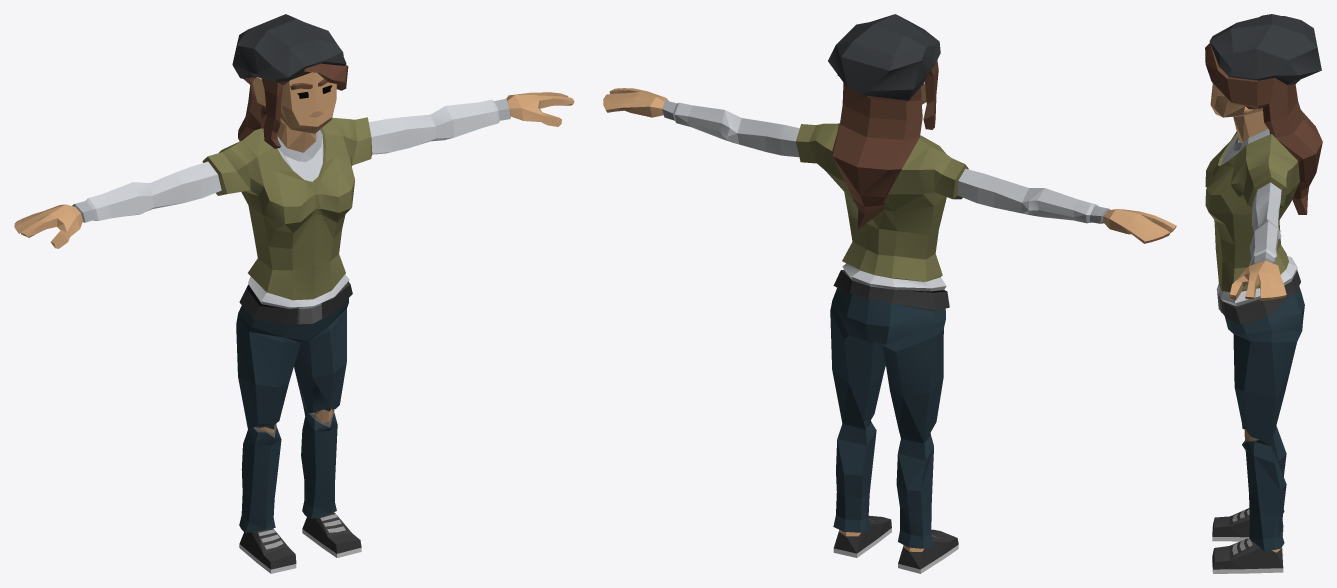
File: Character2_model.fbx
The picture shows the model from 3 angles, left to right: view 1: azimuth 30°, elevation 25°; view 2: azimuth 150°, elevation 25°; view 3: azimuth 270°, elevation 25°; orthographic projection. The views are drawn at different scales.
Visible parts, largest first — view 1: Character_Daughter_01; view 2: Character_Daughter_01; view 3: Character_Daughter_01.
Part boxes in pixels (x1,y1,x2,y2): Character_Daughter_01: (14, 14, 574, 573); Character_Daughter_01: (603, 14, 1176, 573); Character_Daughter_01: (1205, 14, 1322, 573).
Size of the model in its own units: 204 by 184 by 36.99.
1 material, 1 textured.
